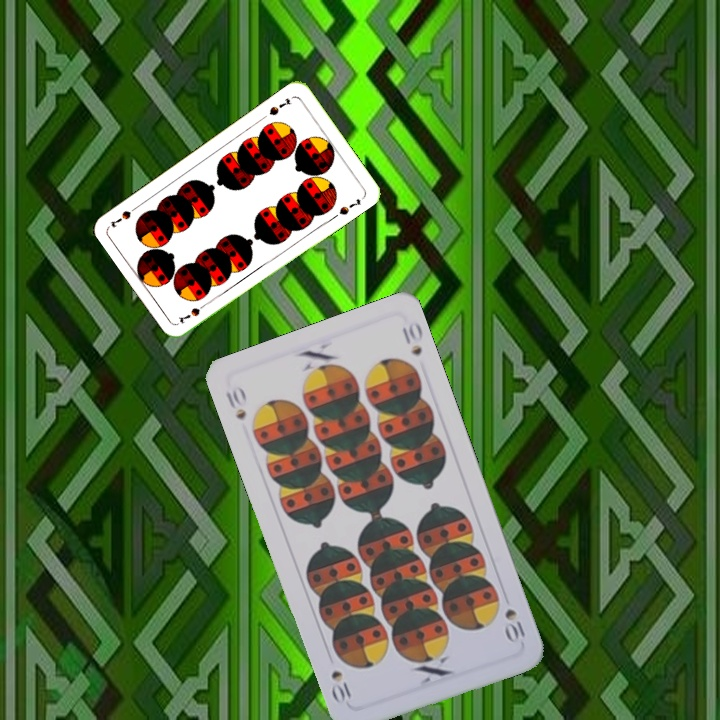S10: (500, 604, 528, 647), (222, 382, 249, 423)
S7: (174, 298, 211, 326), (265, 94, 294, 118)
